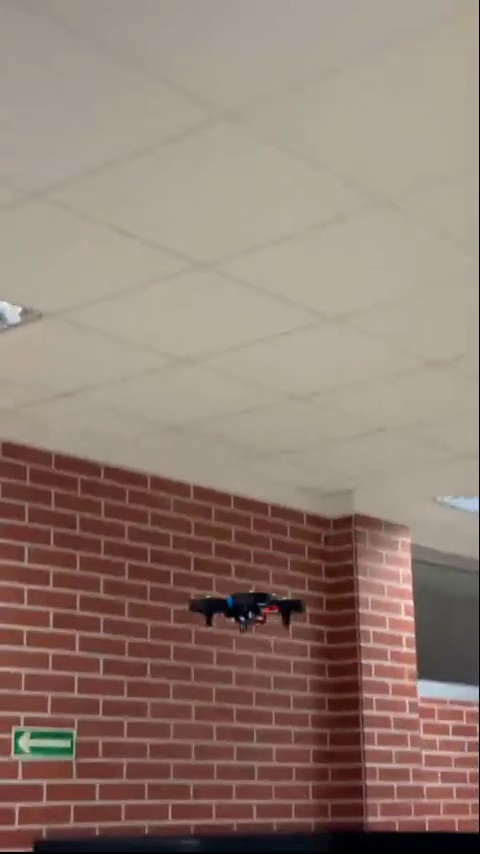drone: (190, 588, 301, 634)
